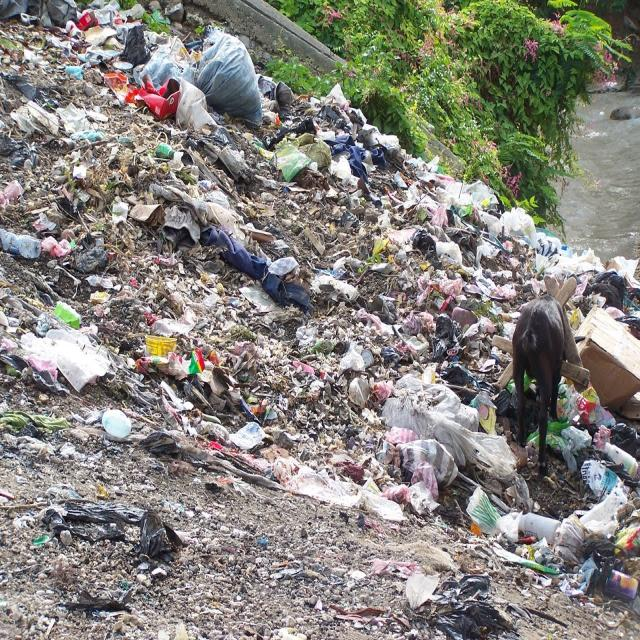garbage: (10, 64, 622, 640)
